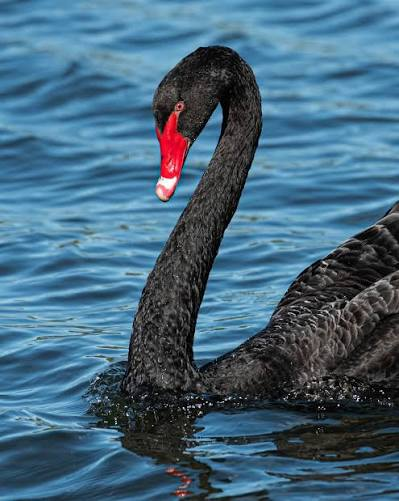black_swan: (102, 41, 399, 418)
